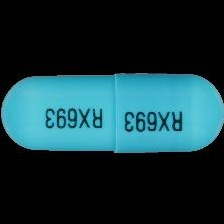55700-155: (0, 0, 224, 224)
